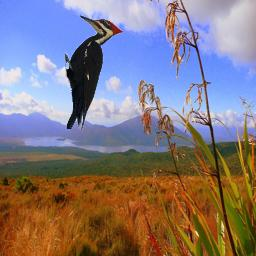Woodpecker: (65, 14, 126, 129)
